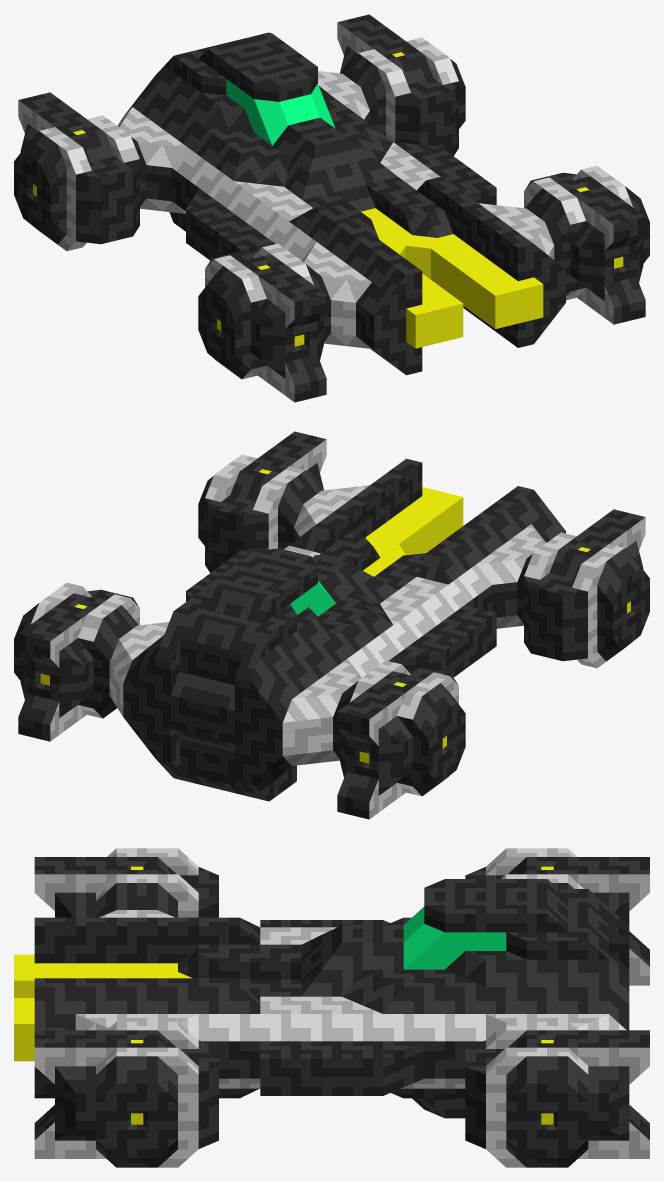
Rendered from Gladiator.glb.
The picture shows the model from 3 angles, top to bottom: view 1: azimuth 30°, elevation 25°; view 2: azimuth 150°, elevation 25°; view 3: azimuth 270°, elevation 25°; orthographic projection. The views are drawn at different scales.
Parts seen in each view (by area): view 1: Gladiator; view 2: Gladiator; view 3: Gladiator.
Boxes of the visible parts, left/top/right/bottom form: Gladiator: left=14, top=14, right=649, bottom=402; Gladiator: left=14, top=431, right=649, bottom=819; Gladiator: left=14, top=848, right=649, bottom=1167.
Size of the model in its own units: 26 by 11 by 31.
Materials: 1 (1 with a texture image).
